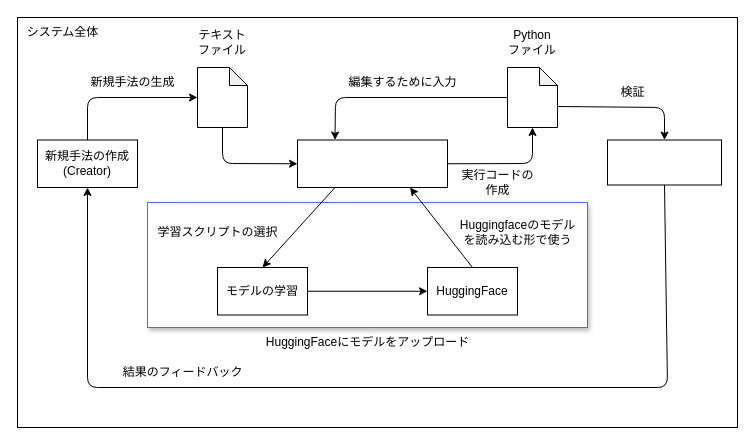
Some shapes in this 755 by 445 pixel diagram are drawn without their labels. The shapes that lost their labels are listed below. From the top down, each one's centre as x and y in pixels, then its label:
At point 372,163: "実行プログラム作成 (Coder)".
At point 664,162: "検証 (Evaluator)".
